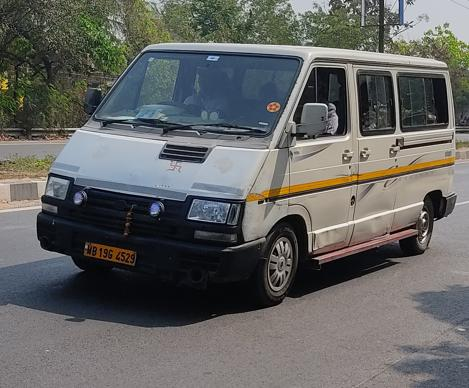Auto: (34, 40, 459, 306)
